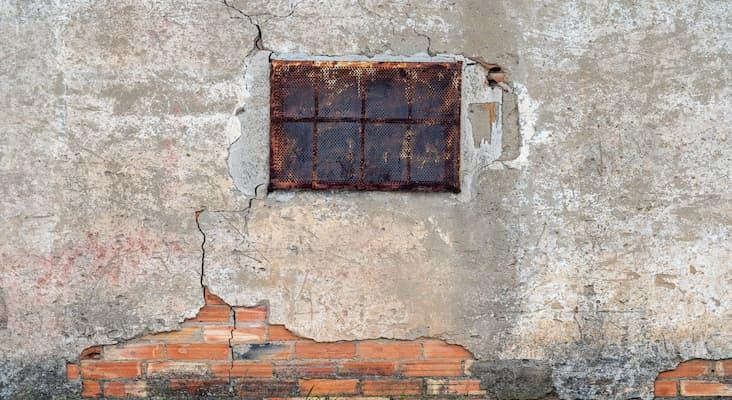Crack: (189, 178, 274, 297), (356, 0, 478, 68), (207, 0, 300, 60), (213, 300, 250, 400)
